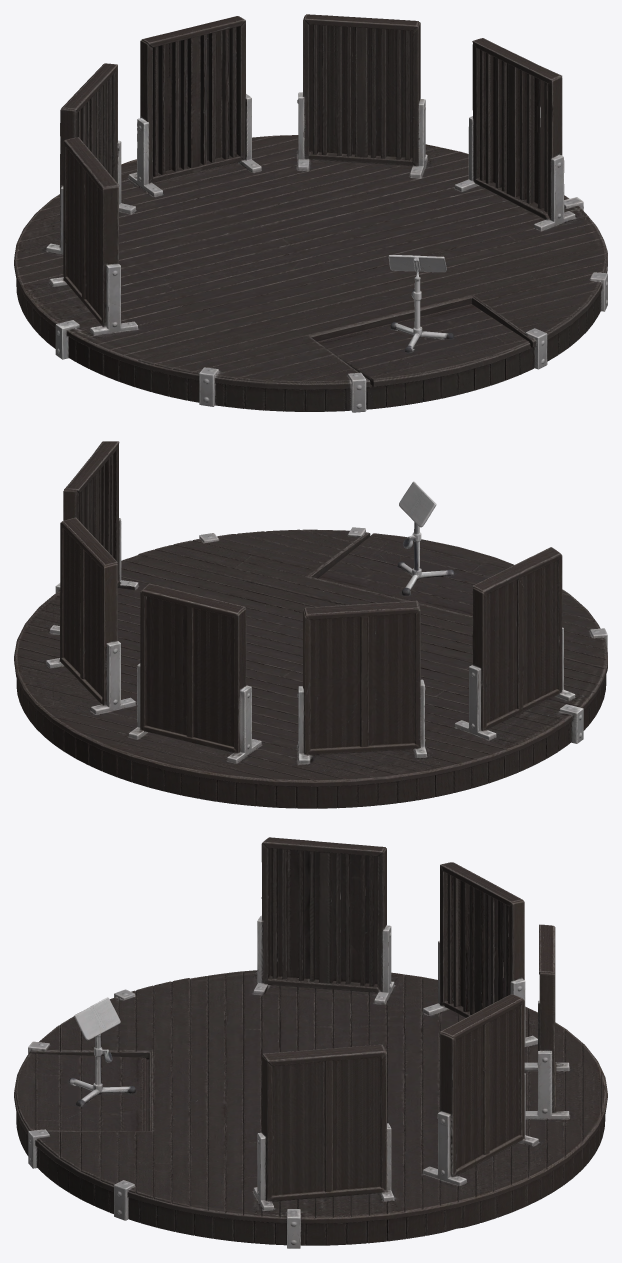
Rendered from Nivel1_DO_El_sonido_bello_nivel_completo.glb.
3 renders of one model, top to bottom at view 1: azimuth 30°, elevation 25°; view 2: azimuth 150°, elevation 25°; view 3: azimuth 270°, elevation 25°, orthographic.
Visible parts, largest first — view 1: Mesh_0; view 2: Mesh_0; view 3: Mesh_0.
Boxes of the visible parts, <box> form: Mesh_0: <box>14,14,607,412</box>; Mesh_0: <box>14,441,607,808</box>; Mesh_0: <box>14,837,607,1248</box>.
Bounding box in the file's own units: 1.9 × 0.6004 × 1.86.
Materials: 1 (1 with a texture image).
